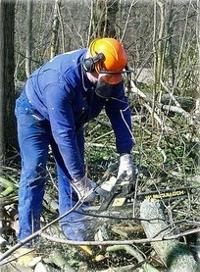person: (15, 38, 134, 267)
